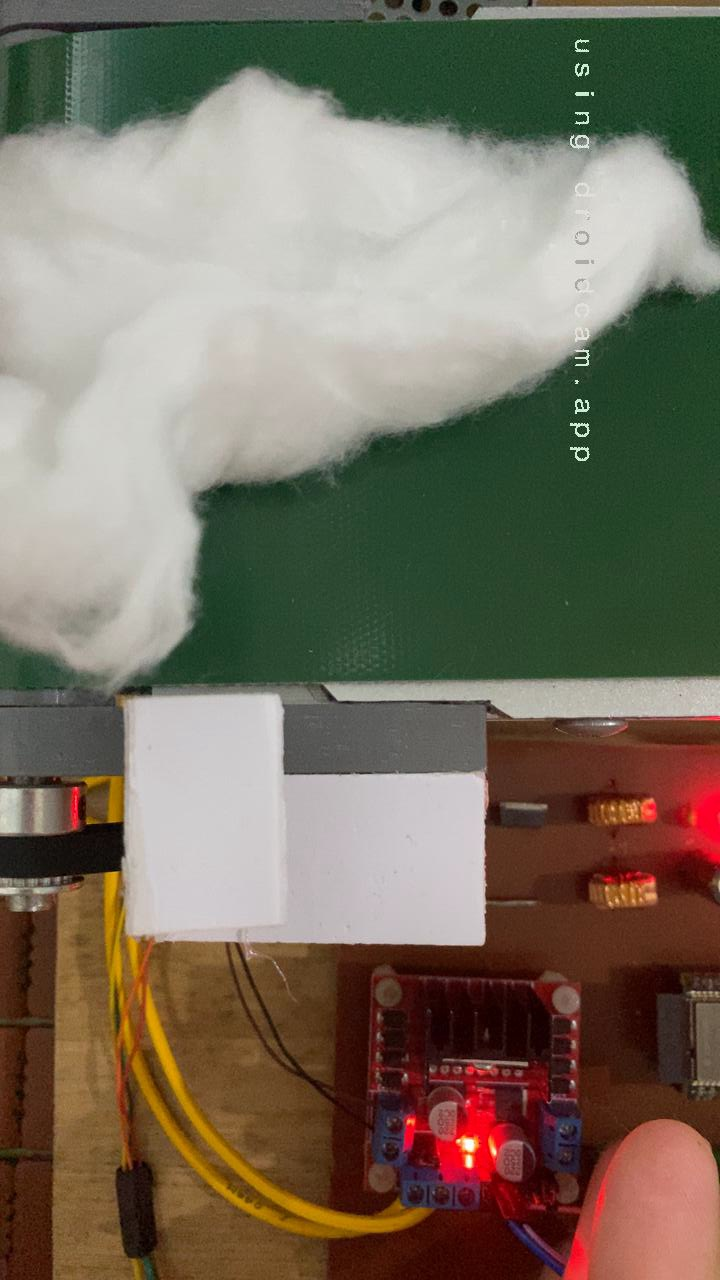cotton: (0, 61, 720, 680)
